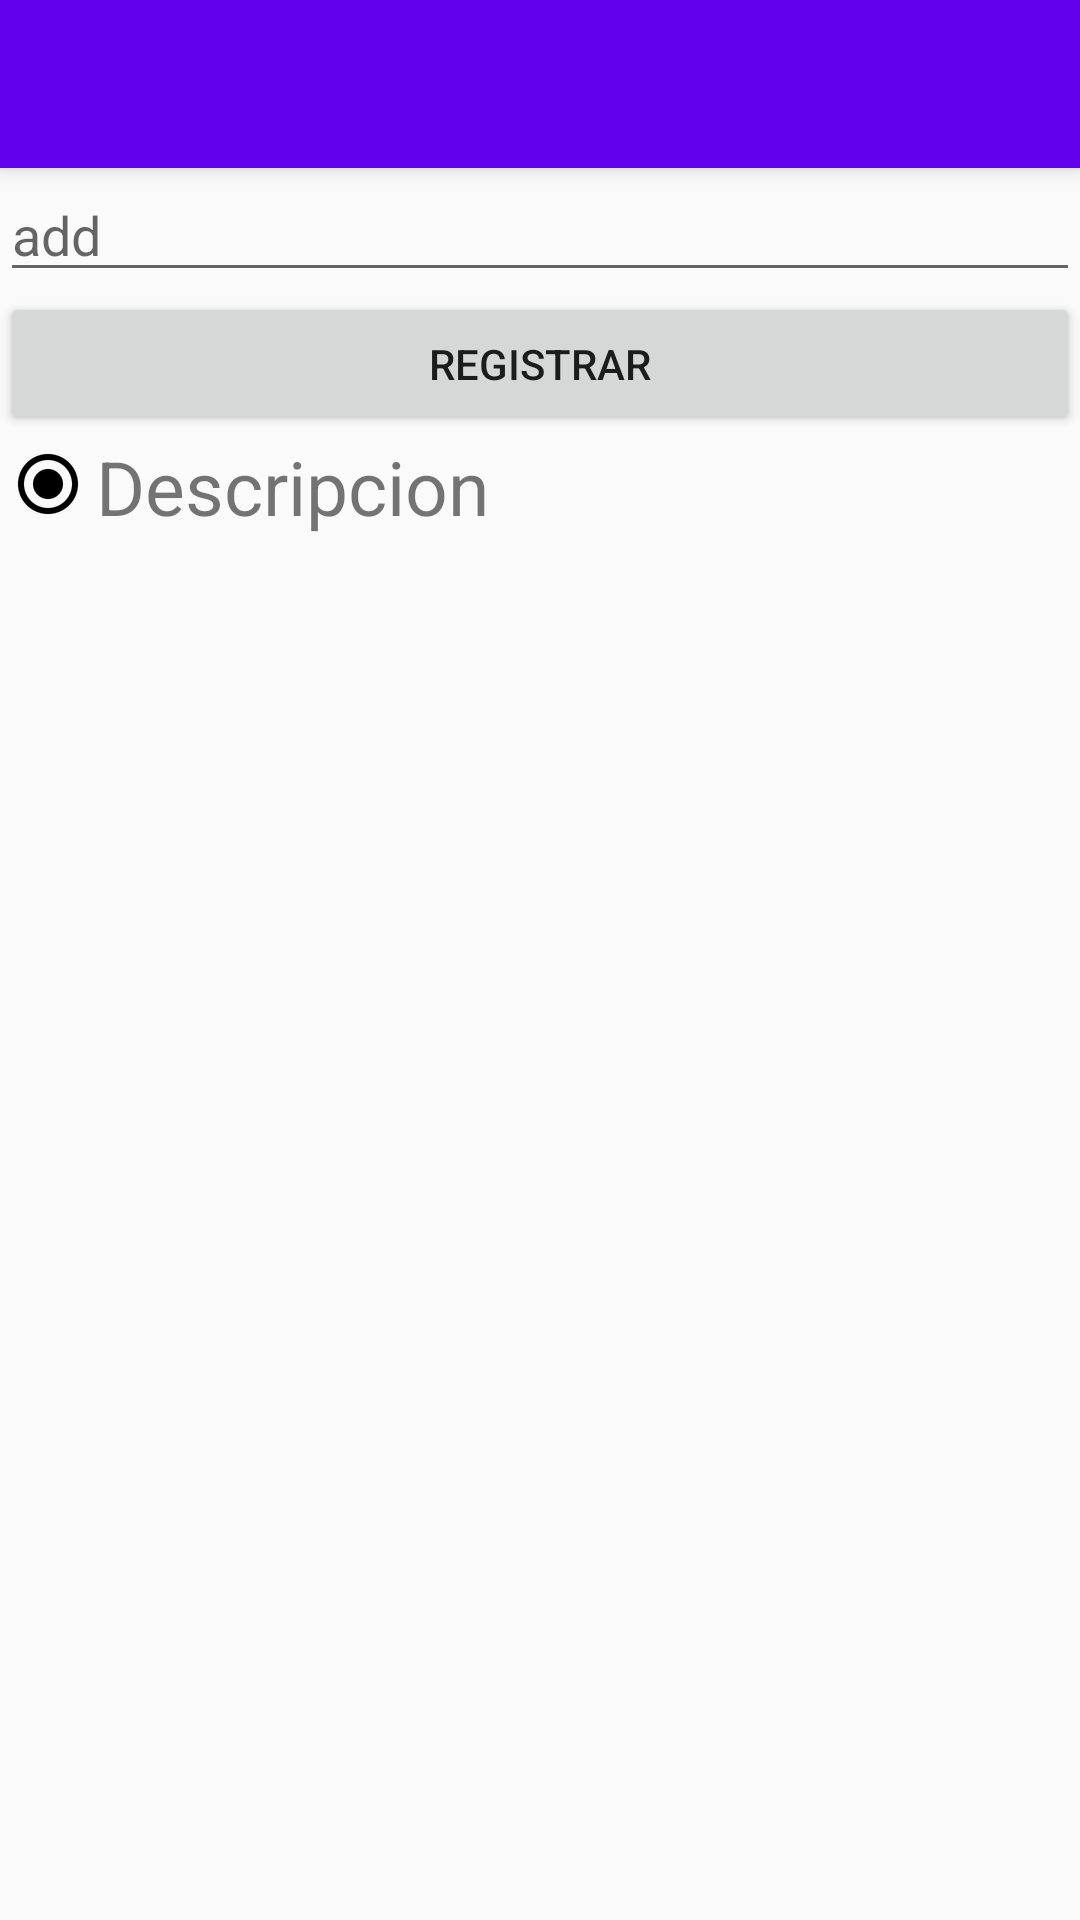

Locate icon controls on the screen. Image size 1080x1920, boxes as box=[x1, y1, x2, y2].
radio to on: box=[18, 454, 78, 514]
